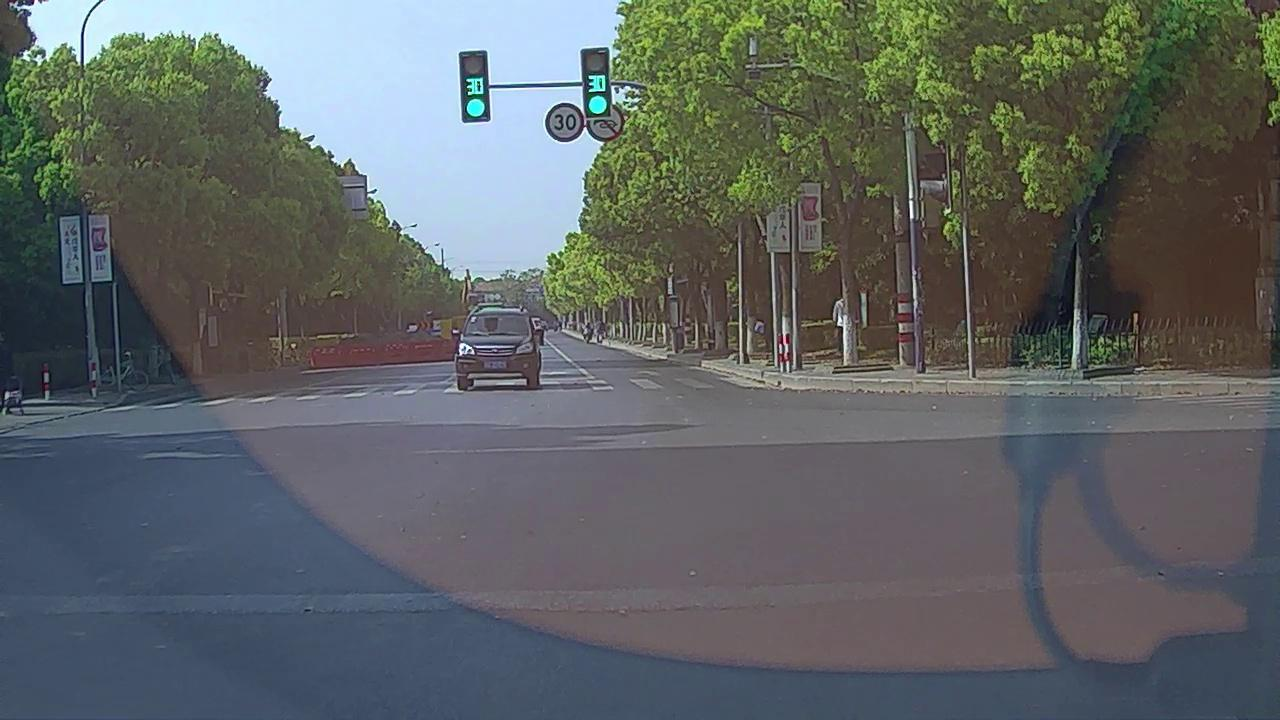traffic_light: (581, 49, 612, 119), (460, 51, 490, 122)
